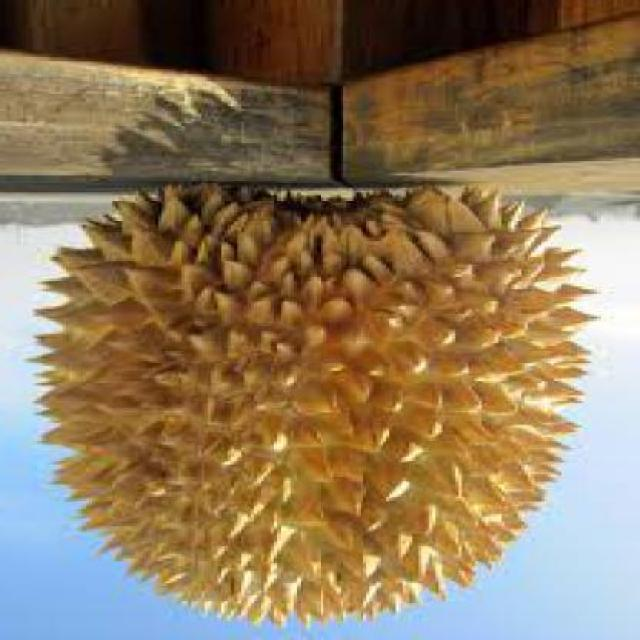BIODEGRADABLE: (33, 180, 601, 635)
